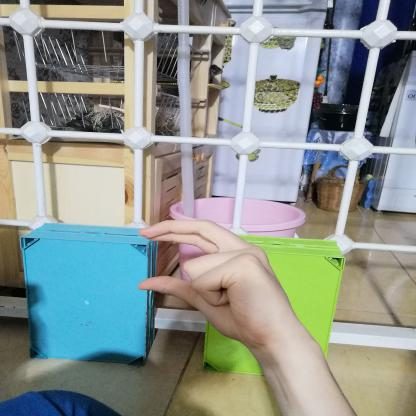DHELL: (124, 209, 298, 350)
